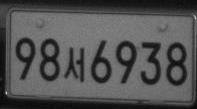3: (139, 40, 161, 85)
6: (90, 39, 112, 84)
8: (165, 40, 188, 85), (38, 37, 60, 81)
9: (114, 39, 138, 84), (14, 36, 36, 80)
서: (63, 46, 85, 83)
